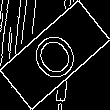O_SE: (24, 21, 86, 89)
